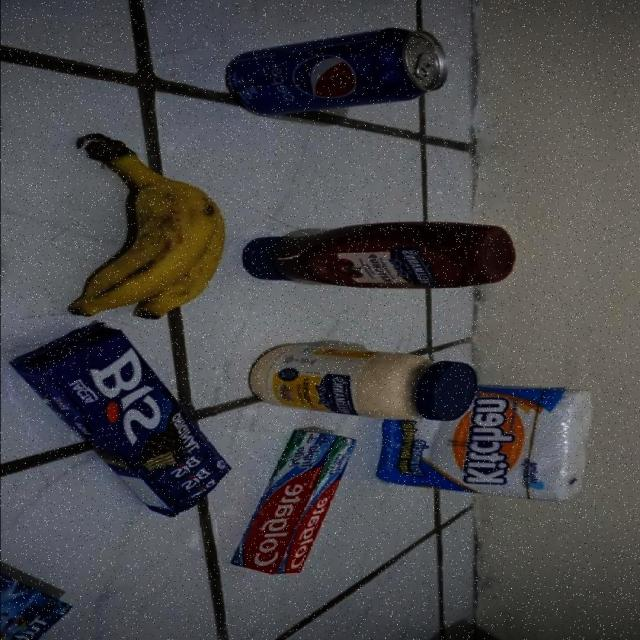Banana: (70, 135, 224, 317)
Gelatine: (0, 565, 78, 640)
Ketchup: (241, 221, 515, 289)
Mayonnaise: (247, 343, 475, 420)
Napkin: (366, 383, 588, 503)
SodaCan: (225, 28, 448, 114)
Toothpaste: (230, 429, 355, 572)
